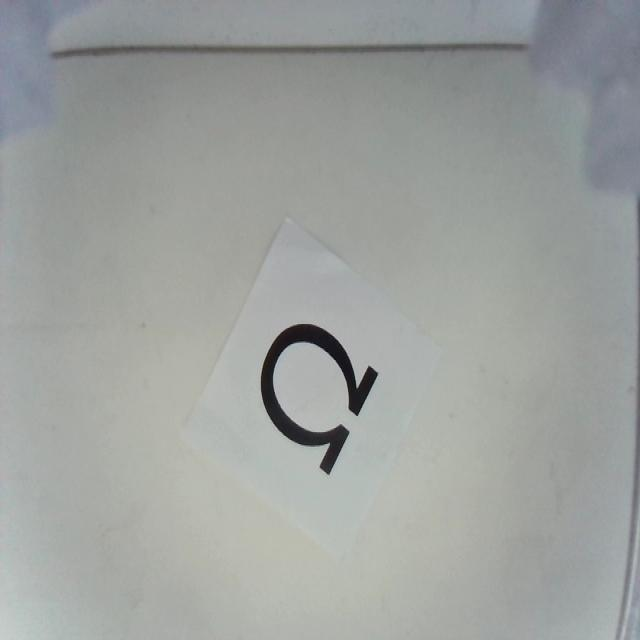OM: (260, 320, 376, 470)
